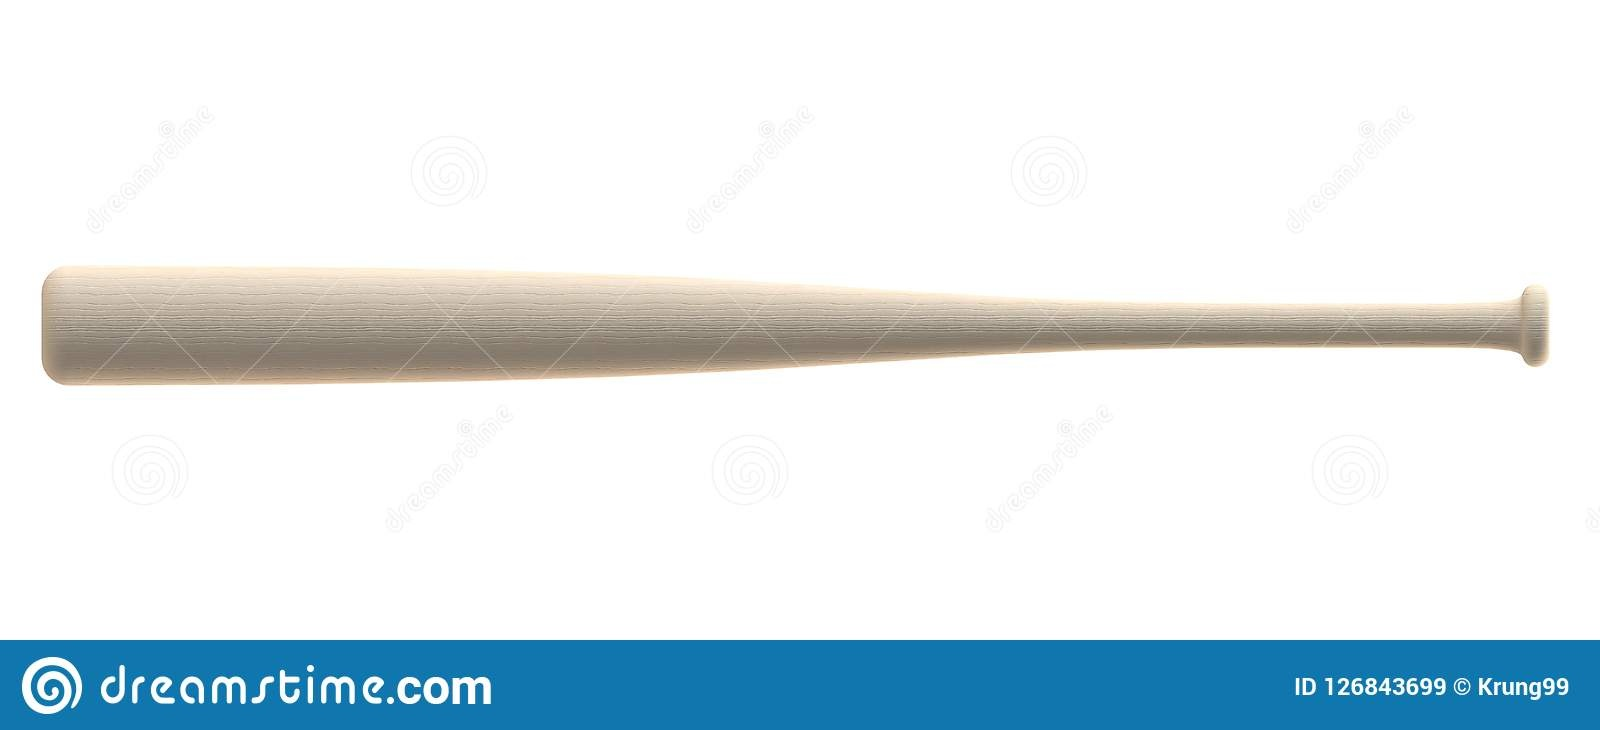bita: (38, 257, 1542, 381)
